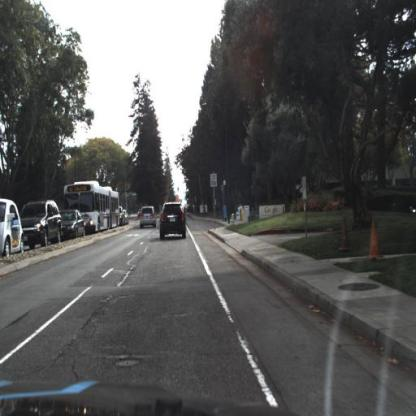car: (22, 191, 64, 248), (23, 197, 61, 250), (1, 200, 25, 257), (159, 200, 189, 242), (60, 208, 87, 242), (60, 208, 87, 241), (139, 204, 159, 231)
truck: (80, 181, 122, 232)
